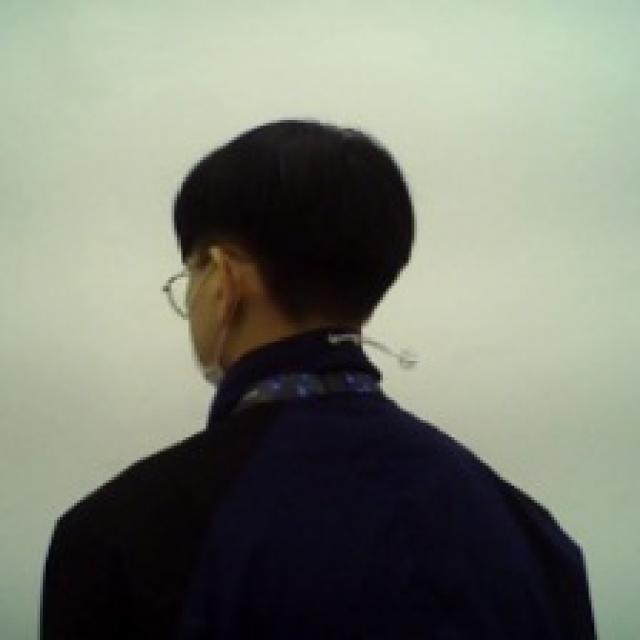no_gloves: (166, 112, 420, 345)
